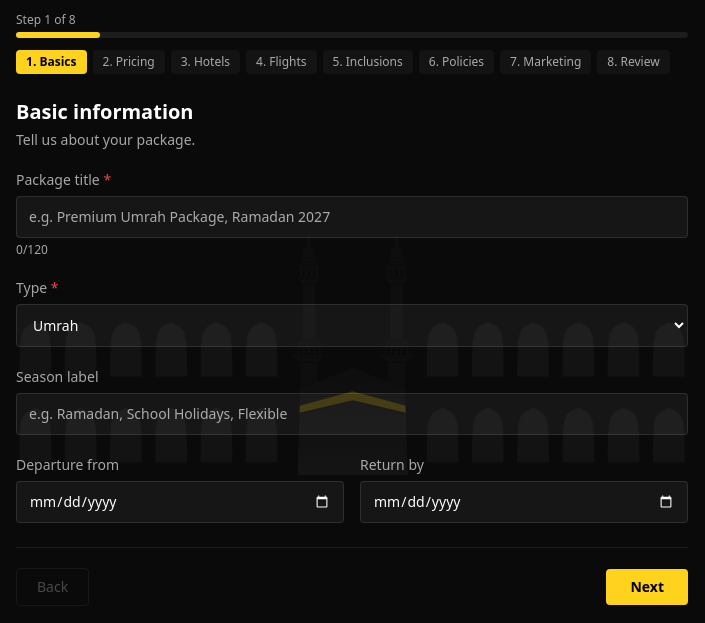
Scenario: PackageWizard › advances to step 2 with valid basics
Type "Valid Package Title" into the field with test id "wizard-title" at (352, 217), box [16,196,688,238]
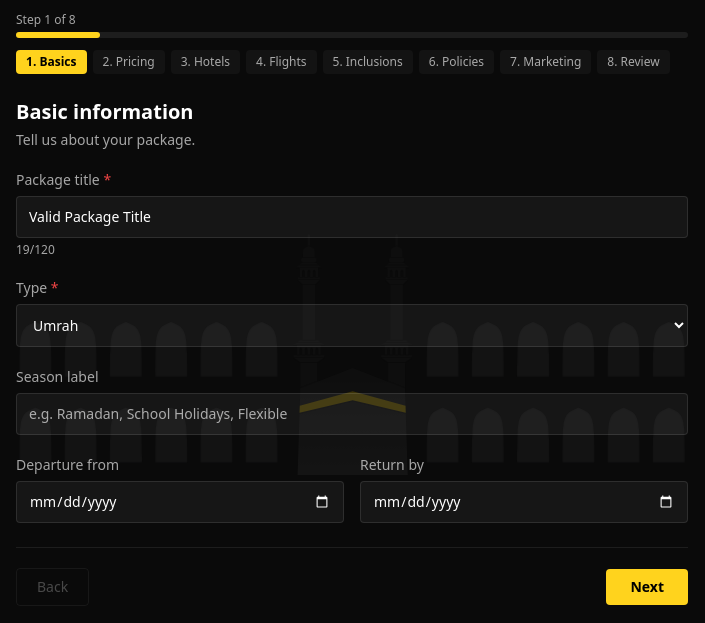
Click the button with test id "wizard-next-btn" at (647, 587), box [606,569,688,605]
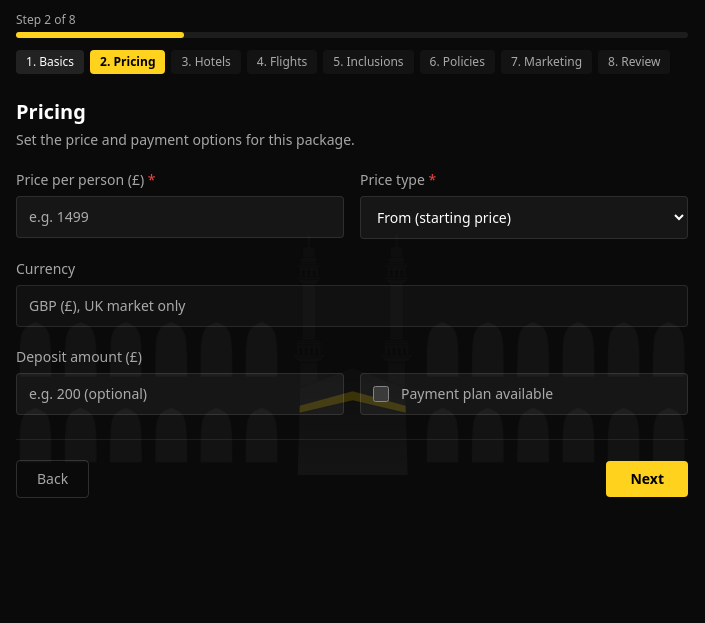
expect the number field with test id "wizard-price" is shown: met, box [16,196,344,238]
expect the text "Step 2 of 8" is shown: met, box [16,12,76,28]
